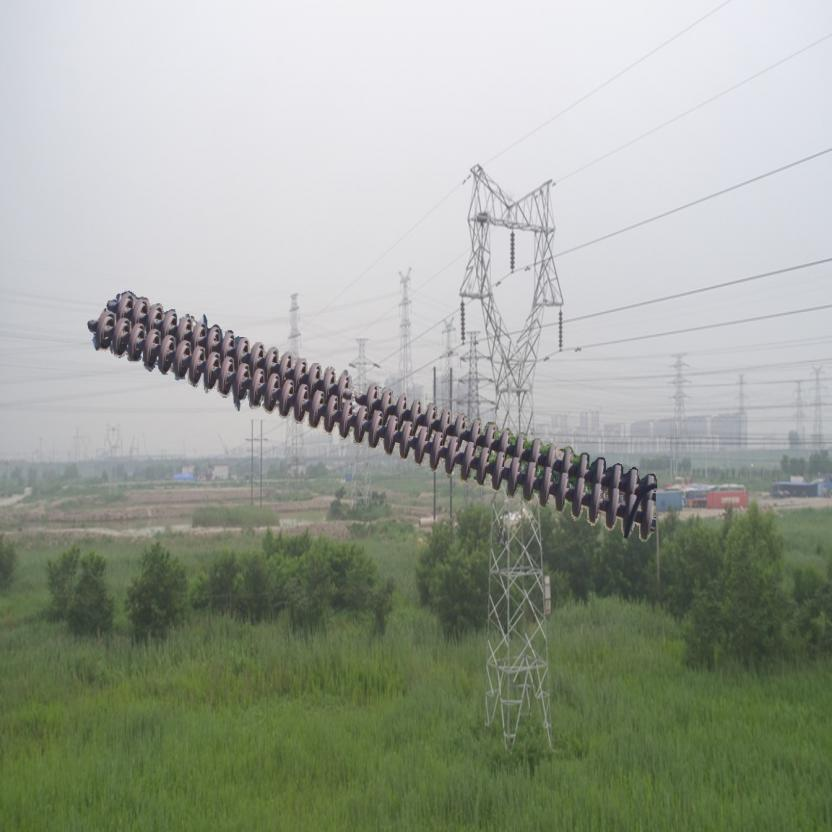defect: (332, 369, 378, 409)
